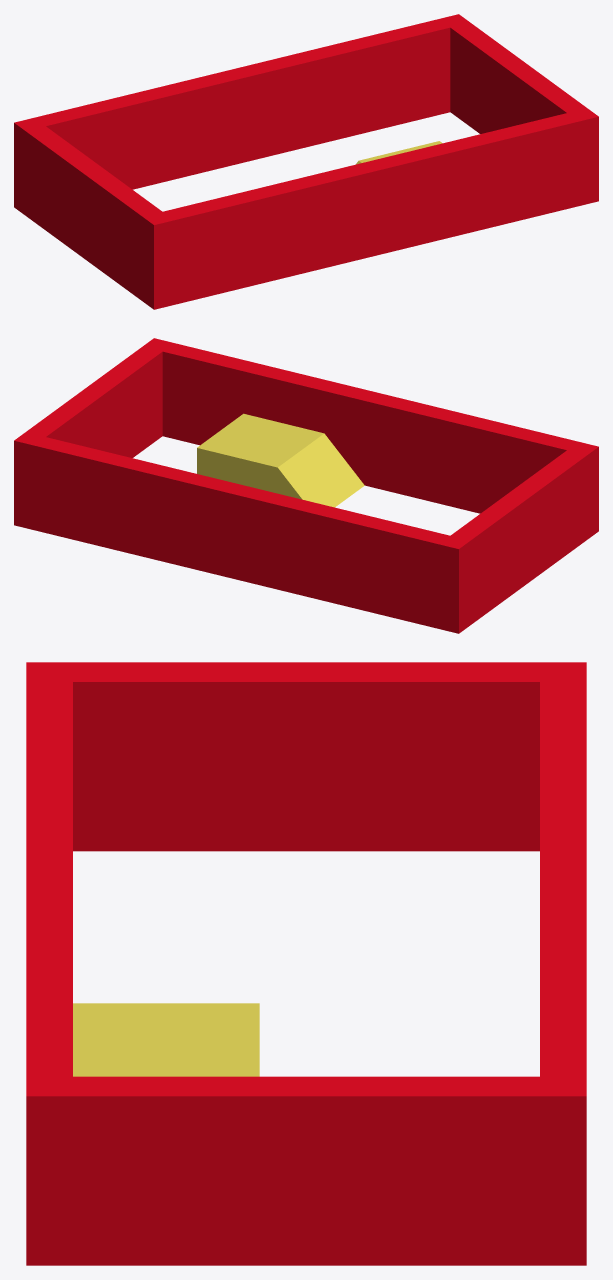
The model's file is world_two.dae.
3 views of the same model, one above another, from view 1: azimuth 30°, elevation 25°; view 2: azimuth 150°, elevation 25°; view 3: azimuth 270°, elevation 25° (orthographic). The views are drawn at different scales.
Visible parts, largest first — view 1: world2_wall; view 2: world2_wall, world2_slope; view 3: world2_wall, world2_slope.
Part boxes in pixels (bbox=[...]): world2_wall: bbox=[14, 14, 598, 309]; world2_wall: bbox=[14, 338, 598, 633]; world2_slope: bbox=[197, 413, 364, 507]; world2_wall: bbox=[26, 662, 586, 1265]; world2_slope: bbox=[73, 1003, 259, 1076].
Bounding box in the file's own units: 11000 × 6000 × 2000.
